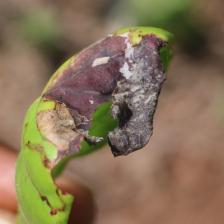leaf miner: (13, 25, 175, 224)
